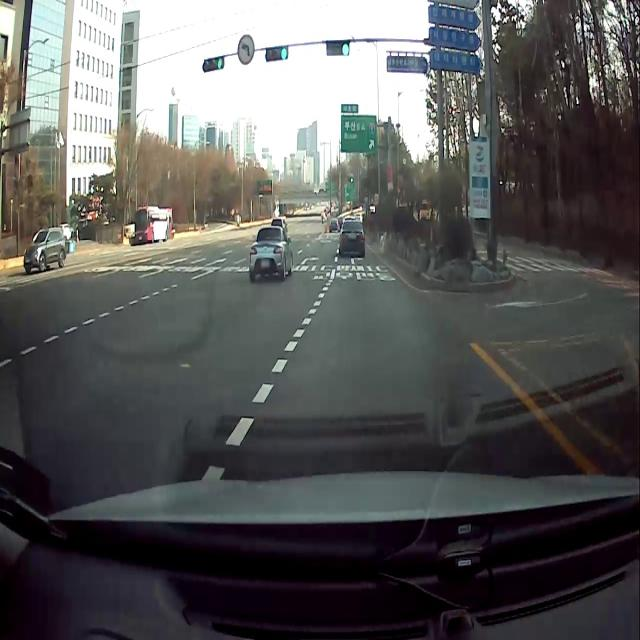Green Light: (341, 42, 350, 57), (281, 46, 288, 60), (217, 56, 223, 70)
